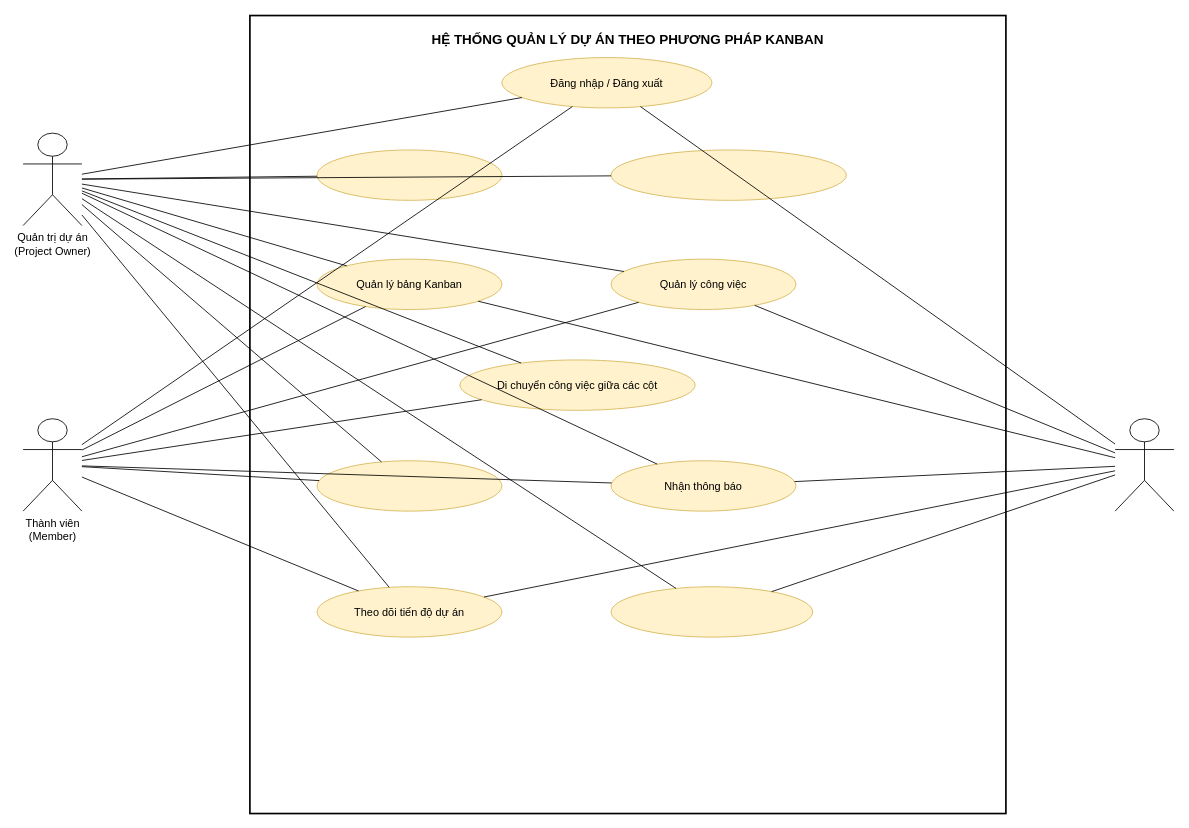
Image size: 1189x828. Some labels were removed from this diagram. The centre of each missing label's shape, as x and y in pixels:
"Bình luận và trao đổi" goes at (409,485).
"Người xem (Viewer)" goes at (1144,464).
"Quản lý dự án" goes at (409,174).
"Quản lý thành viên và phân quyền" goes at (728,174).
"Xem thống kê và báo cáo" goes at (711,611).
